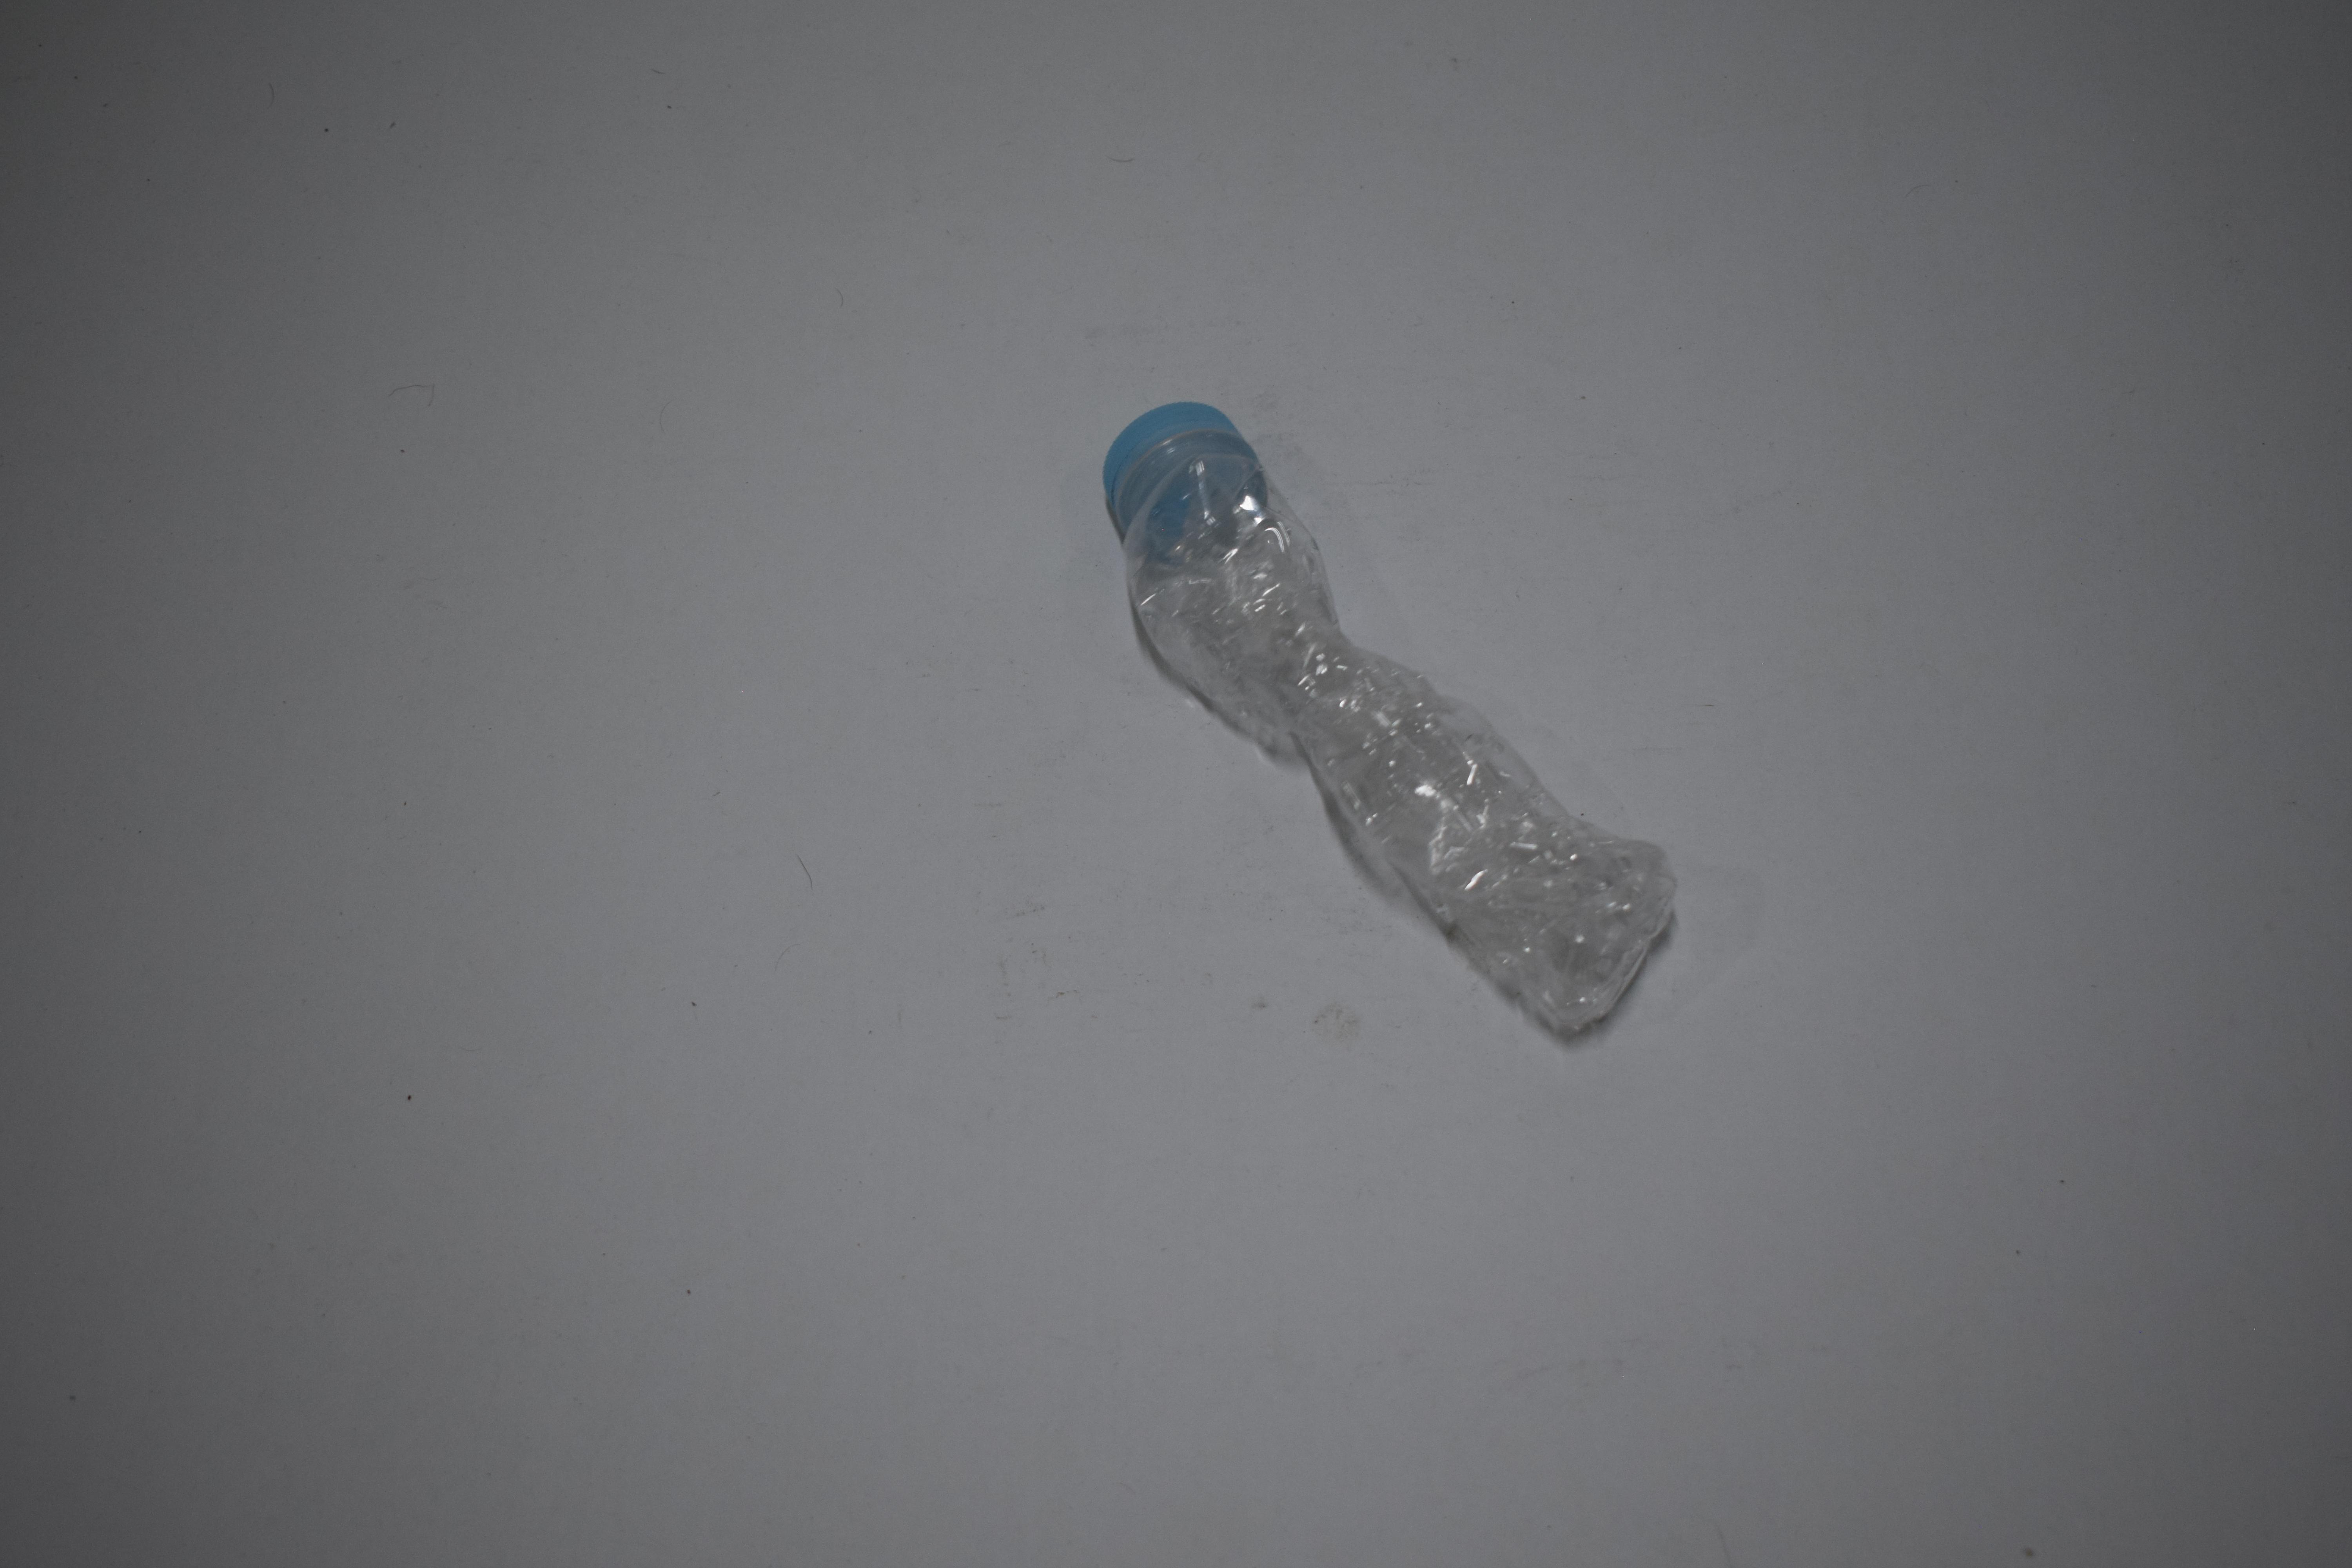bottle: (0, 310, 451, 971)
